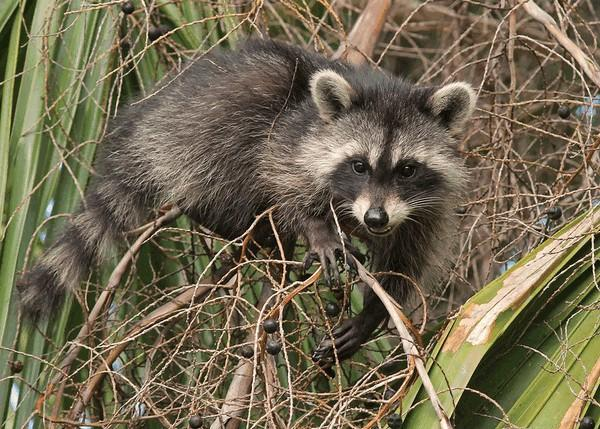raccoon: (27, 39, 476, 377)
